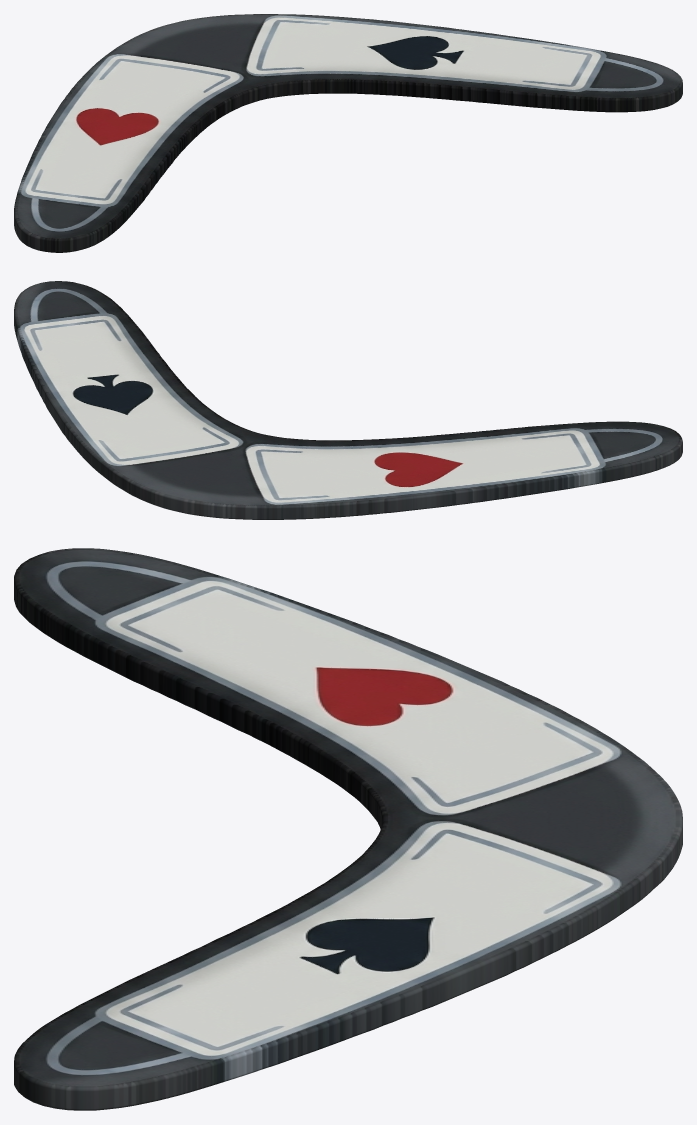
The model's file is Boomerang_46.fbx.
The picture shows the model from 3 angles, top to bottom: view 1: azimuth 30°, elevation 25°; view 2: azimuth 150°, elevation 25°; view 3: azimuth 270°, elevation 25°; orthographic projection. The views are drawn at different scales.
Visible parts, largest first — view 1: Boomerang_46; view 2: Boomerang_46; view 3: Boomerang_46.
Boxes of the visible parts, x1,y1,x2,y2 form: Boomerang_46: (14, 14, 682, 252); Boomerang_46: (14, 281, 682, 519); Boomerang_46: (14, 548, 682, 1110).
Size of the model in its own units: 201 by 4 by 105.
Materials: 1 (1 with a texture image).
